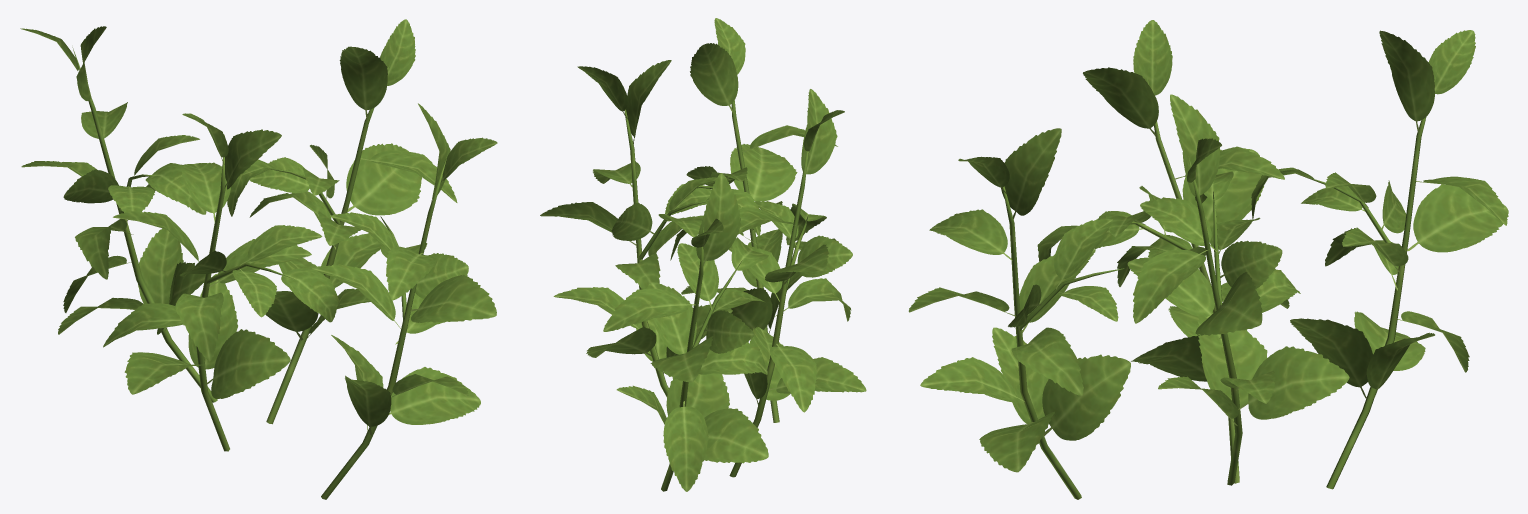
File: Cultivo 1.fbx
The picture shows the model from 3 angles, left to right: view 1: azimuth 30°, elevation 25°; view 2: azimuth 150°, elevation 25°; view 3: azimuth 270°, elevation 25°; orthographic projection. The views are drawn at different scales.
Visible parts, largest first — view 1: Object_18; view 2: Object_18; view 3: Object_18.
Part boxes in pixels (x1,y1,x2,y2): Object_18: [20, 19, 497, 499]; Object_18: [540, 18, 866, 491]; Object_18: [908, 20, 1508, 499].
Bounding box in the file's own units: 19.72 × 23.62 × 29.27.
1 material, 1 textured.
